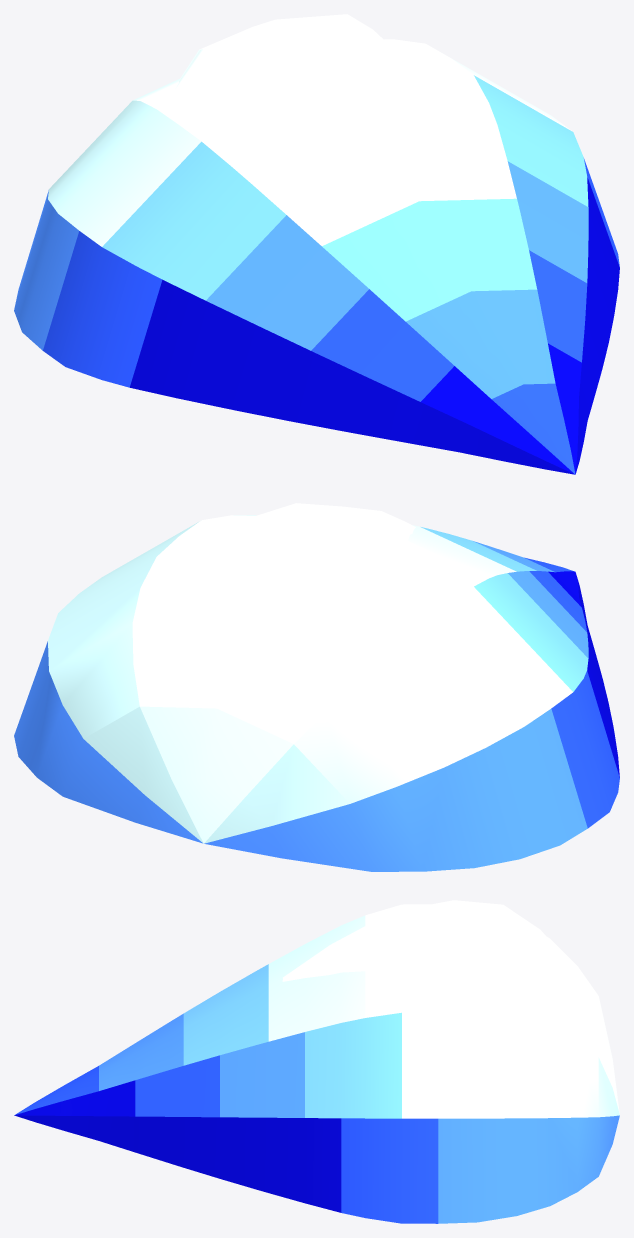
The model's file is shot_frost_2.glb.
3 views of the same model, one above another, from view 1: azimuth 30°, elevation 25°; view 2: azimuth 150°, elevation 25°; view 3: azimuth 270°, elevation 25° (orthographic). The views are drawn at different scales.
Parts seen in each view (by area): view 1: shot_frost_2_ice, shot_frost_2_core; view 2: shot_frost_2_ice, shot_frost_2_core; view 3: shot_frost_2_ice, shot_frost_2_core.
Boxes of the visible parts, left/top/right/bottom form: shot_frost_2_ice: left=14, top=39, right=619, bottom=474; shot_frost_2_core: left=175, top=14, right=415, bottom=188; shot_frost_2_ice: left=14, top=515, right=619, bottom=871; shot_frost_2_core: left=175, top=503, right=415, bottom=667; shot_frost_2_ice: left=14, top=904, right=619, bottom=1223; shot_frost_2_core: left=282, top=900, right=575, bottom=1001.
Size of the model in its own units: 12.19 by 5.18 by 14.4.
